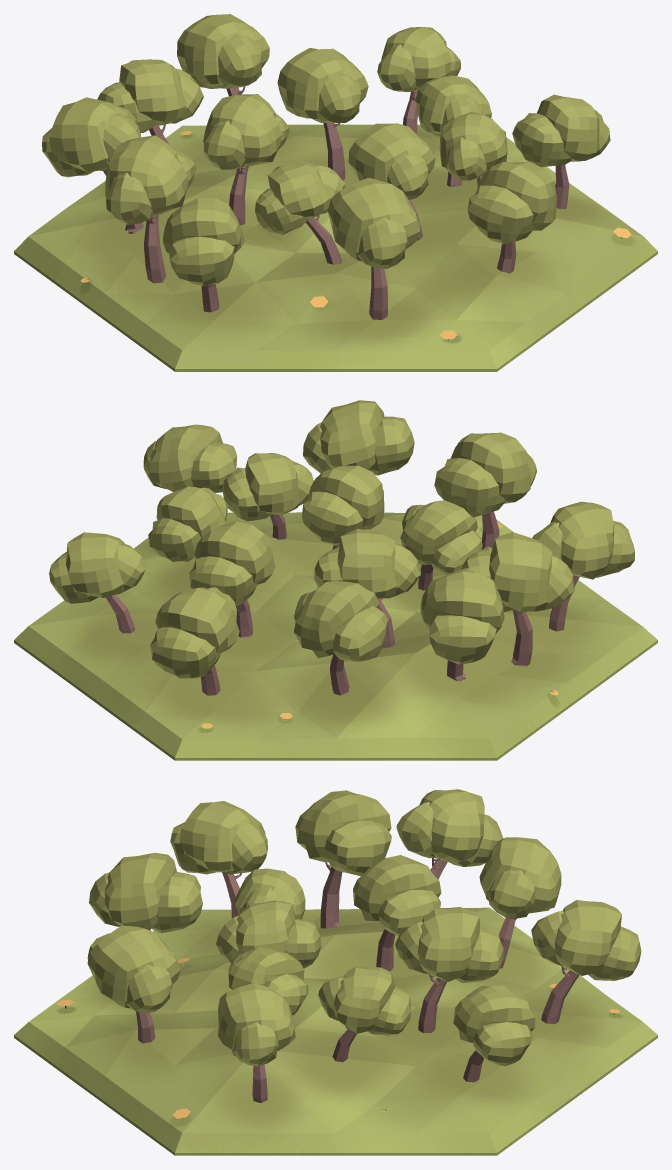
The model's file is deciduousforest.glb.
3 views of the same model, one above another, from view 1: azimuth 30°, elevation 25°; view 2: azimuth 150°, elevation 25°; view 3: azimuth 270°, elevation 25° (orthographic).
Visible parts, largest first — view 1: big_details, land, small_details; view 2: big_details, land; view 3: big_details, land.
Boxes of the visible parts, left/top/right/bottom form: big_details: left=42, top=14, right=610, bottom=319; land: left=14, top=124, right=657, bottom=371; small_details: left=81, top=131, right=631, bottom=339; big_details: left=49, top=400, right=634, bottom=695; land: left=14, top=512, right=657, bottom=760; big_details: left=87, top=789, right=641, bottom=1102; land: left=14, top=907, right=657, bottom=1155.
Bounding box in the file's own units: 1.73 × 0.5312 × 2.
Materials: 3 (3 with a texture image).
